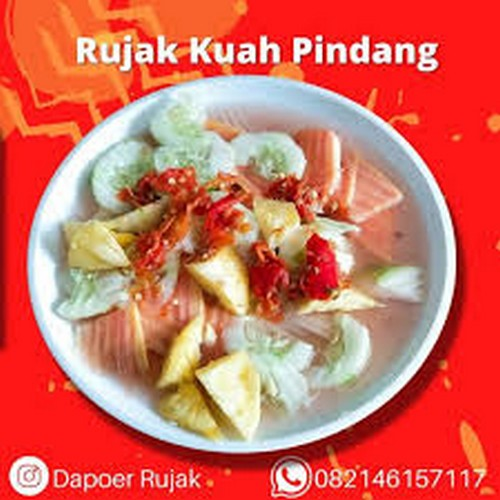rujak buleleng: (61, 127, 389, 408)
